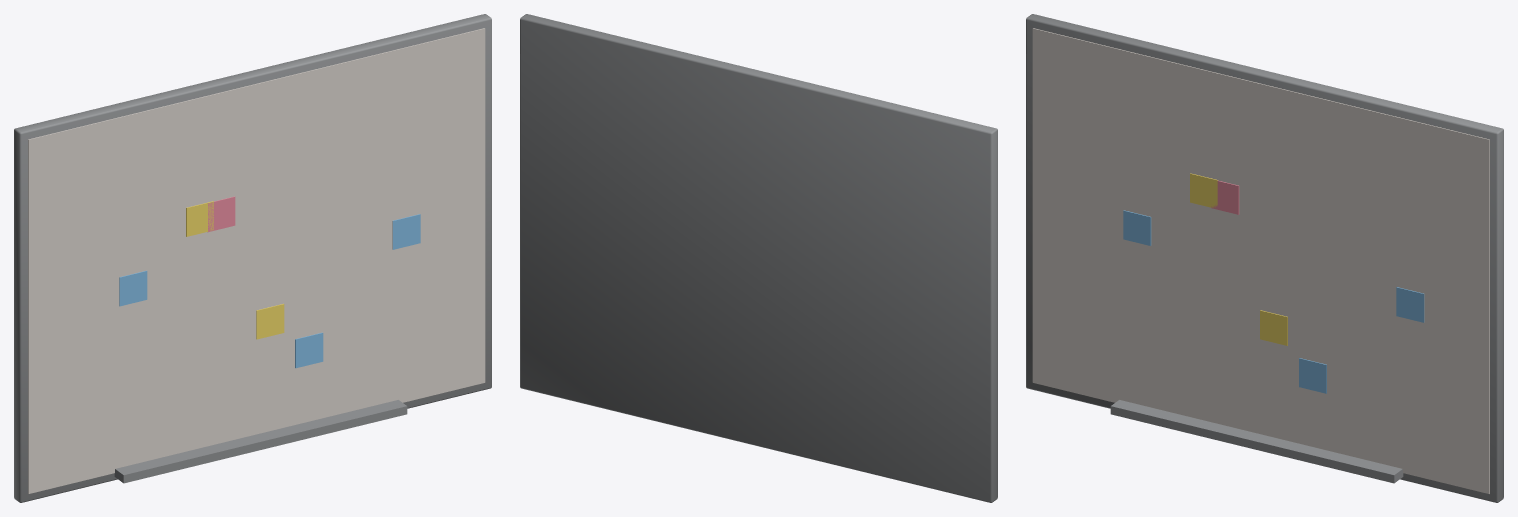
The model's file is tech.wall-whiteboard.glb.
The picture shows the model from 3 angles, left to right: view 1: azimuth 30°, elevation 25°; view 2: azimuth 150°, elevation 25°; view 3: azimuth 330°, elevation 25°; orthographic projection.
Visible parts, largest first — view 1: tech.wall-whiteboard.001; view 2: tech.wall-whiteboard.001; view 3: tech.wall-whiteboard.001.
Boxes of the visible parts, x1,y1,x2,y2 form: tech.wall-whiteboard.001: [14, 14, 491, 502]; tech.wall-whiteboard.001: [520, 14, 997, 502]; tech.wall-whiteboard.001: [1026, 14, 1503, 502].
Bounding box in the file's own units: 1.2 × 0.9 × 0.07.
